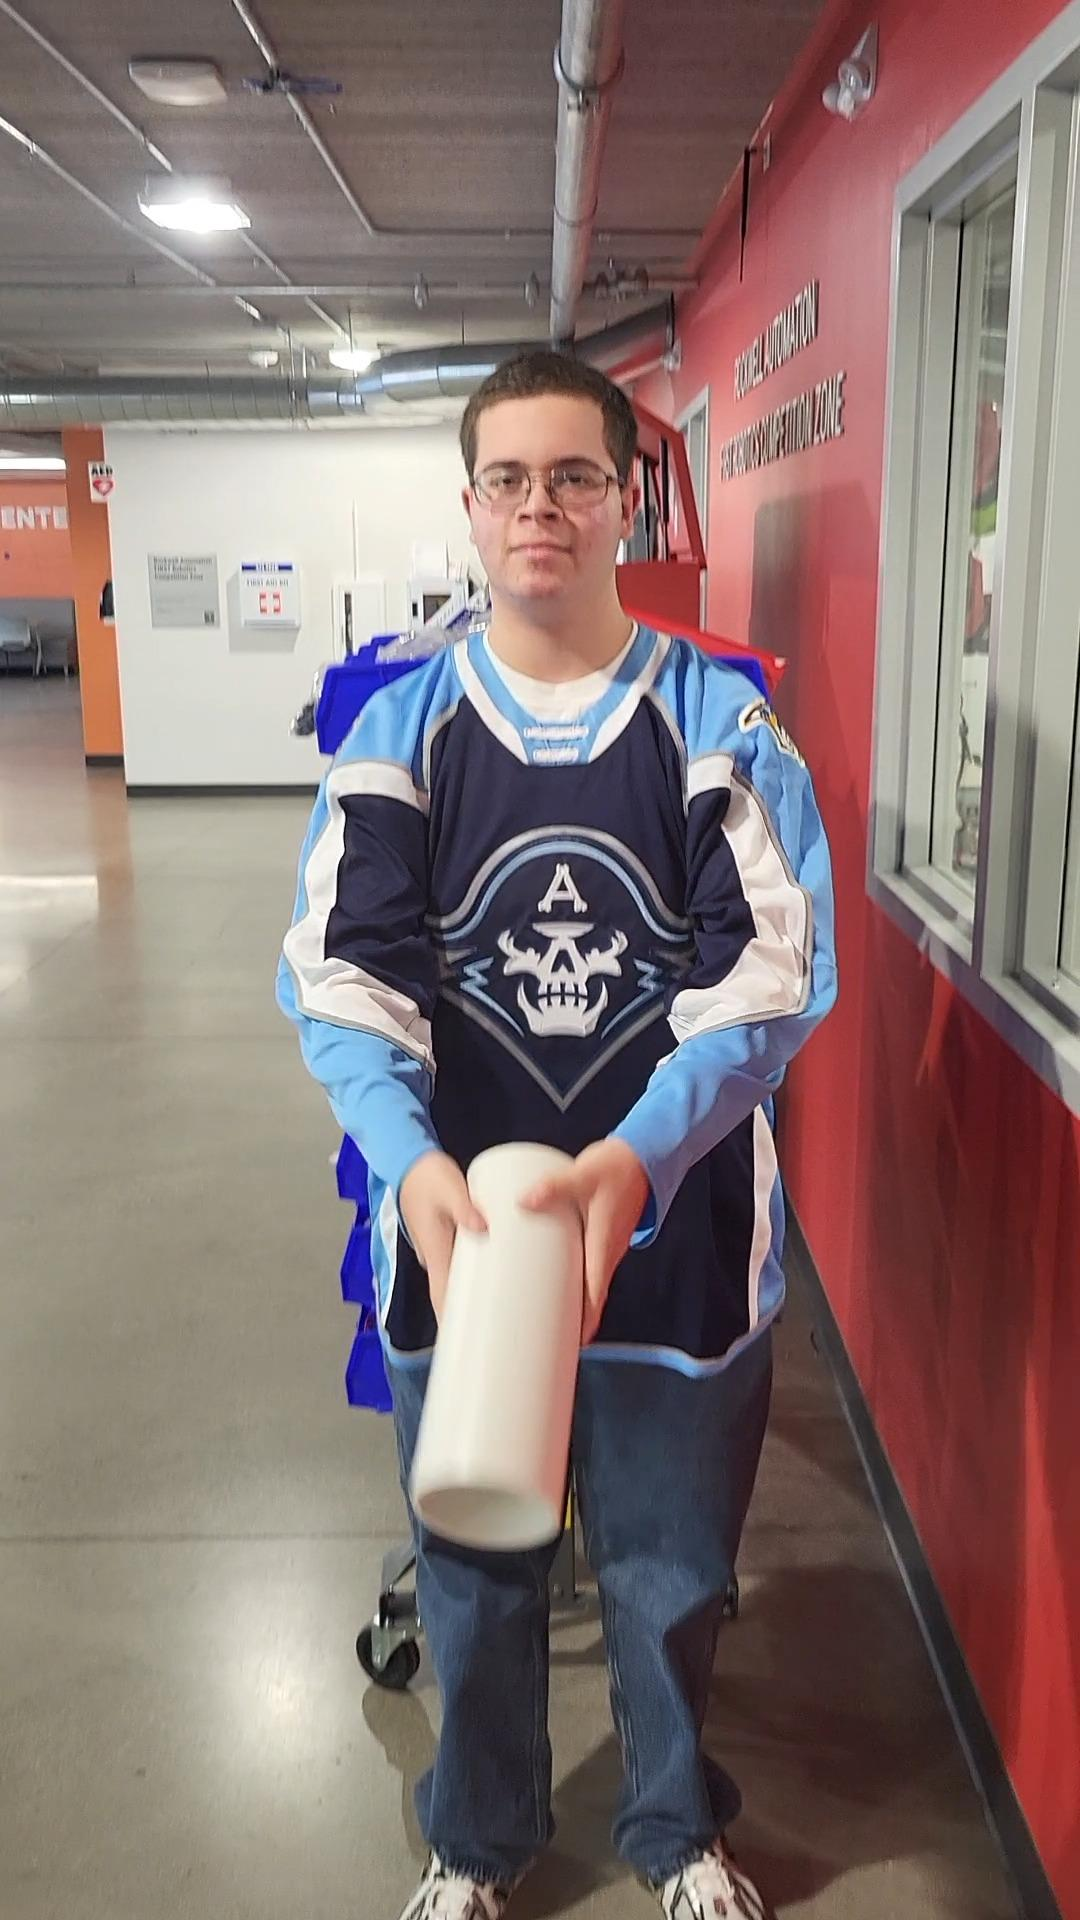coral: (404, 1138, 607, 1560)
